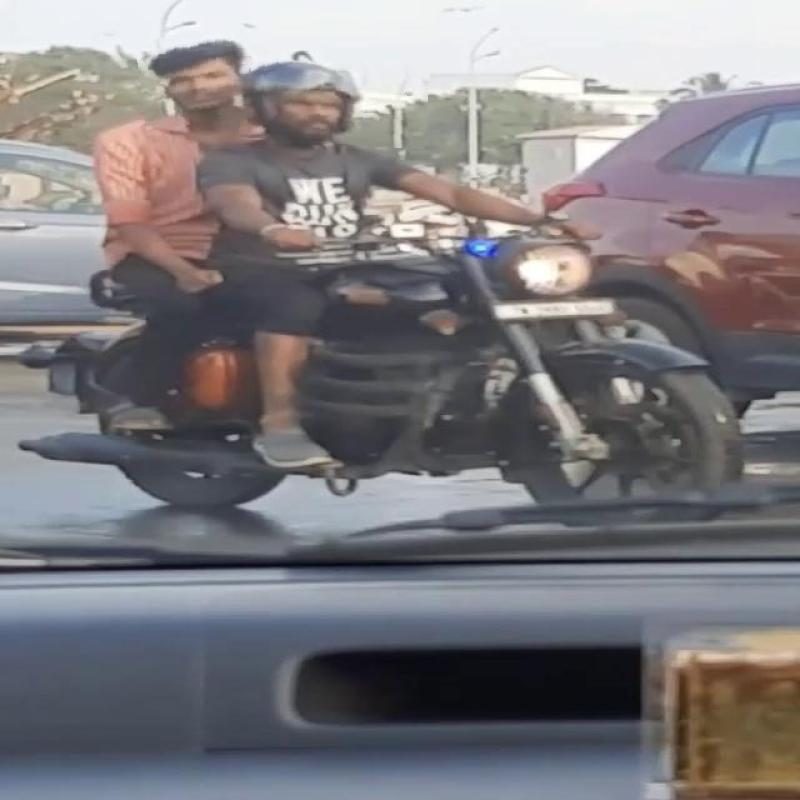nohelmet: (240, 59, 429, 146), (138, 31, 254, 127)
